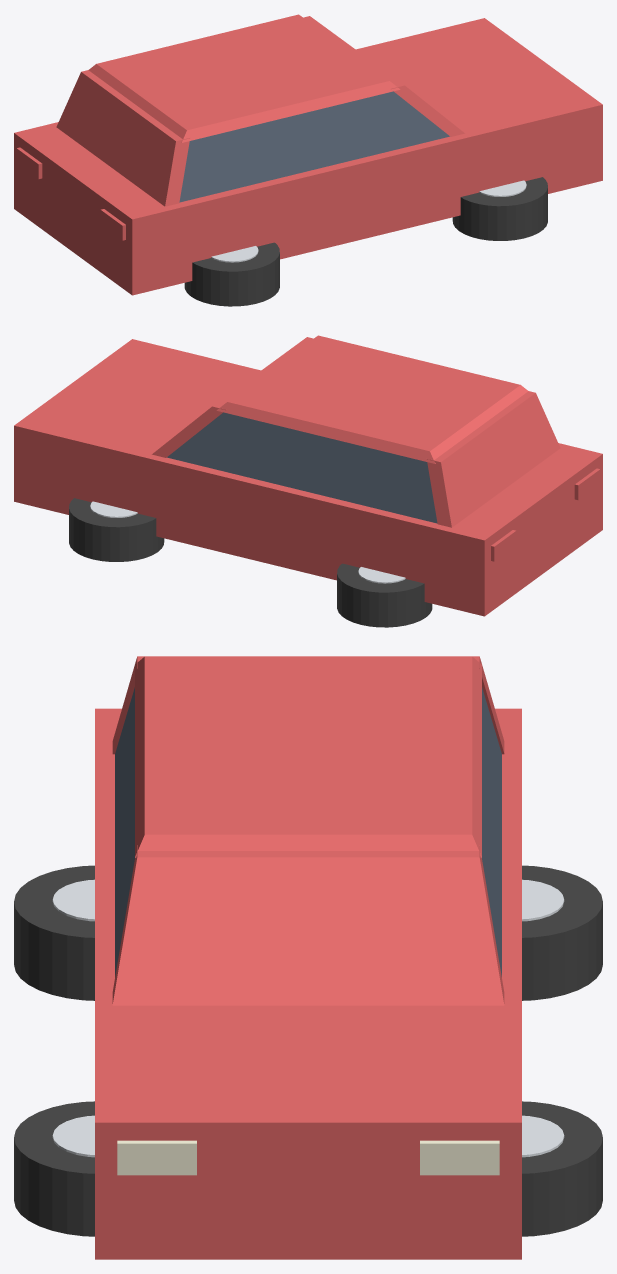
The model's file is toyota_yaris.glb.
3 views of the same model, one above another, from view 1: azimuth 30°, elevation 25°; view 2: azimuth 150°, elevation 25°; view 3: azimuth 270°, elevation 25° (orthographic). The views are drawn at different scales.
Visible parts, largest first — view 1: geometry_0, geometry_2, geometry_1, geometry_4, geometry_9, geometry_5, geometry_3, geometry_16, geometry_10, geometry_6, geometry_14; view 2: geometry_0, geometry_2, geometry_1, geometry_4, geometry_11, geometry_7, geometry_3, geometry_14, geometry_12, geometry_8, geometry_16; view 3: geometry_0, geometry_2, geometry_3, geometry_5, geometry_7, geometry_9, geometry_11, geometry_1, geometry_13, geometry_15, geometry_10, geometry_12 (+3 smaller).
Part boxes in pixels (x1,y1,x2,y2): geometry_0: [14, 18, 602, 295]; geometry_2: [88, 14, 400, 142]; geometry_1: [179, 91, 449, 202]; geometry_4: [56, 70, 189, 206]; geometry_9: [184, 242, 279, 306]; geometry_5: [452, 177, 547, 240]; geometry_3: [303, 16, 464, 136]; geometry_16: [16, 147, 42, 179]; geometry_10: [211, 246, 258, 262]; geometry_6: [479, 180, 526, 196]; geometry_14: [100, 209, 125, 240]; geometry_0: [14, 339, 602, 616]; geometry_2: [216, 335, 528, 463]; geometry_1: [167, 412, 437, 523]; geometry_4: [427, 391, 560, 527]; geometry_11: [337, 563, 432, 627]; geometry_7: [69, 498, 164, 561]; geometry_3: [152, 337, 313, 457]; geometry_14: [574, 468, 600, 500]; geometry_12: [358, 567, 405, 583]; geometry_8: [90, 501, 137, 517]; geometry_16: [491, 530, 516, 561]; geometry_0: [95, 708, 521, 1259]; geometry_2: [135, 656, 481, 857]; geometry_3: [112, 845, 504, 1005]; geometry_5: [14, 1101, 94, 1236]; geometry_7: [522, 1101, 602, 1236]; geometry_9: [14, 865, 94, 1000]; geometry_11: [522, 865, 602, 1000]; geometry_1: [115, 687, 501, 976]; geometry_13: [117, 1140, 196, 1175]; geometry_15: [420, 1140, 499, 1175]; geometry_10: [52, 879, 94, 921]; geometry_12: [522, 879, 564, 921].
Bounding box in the file's own units: 4.01 × 1.25 × 2.37.
